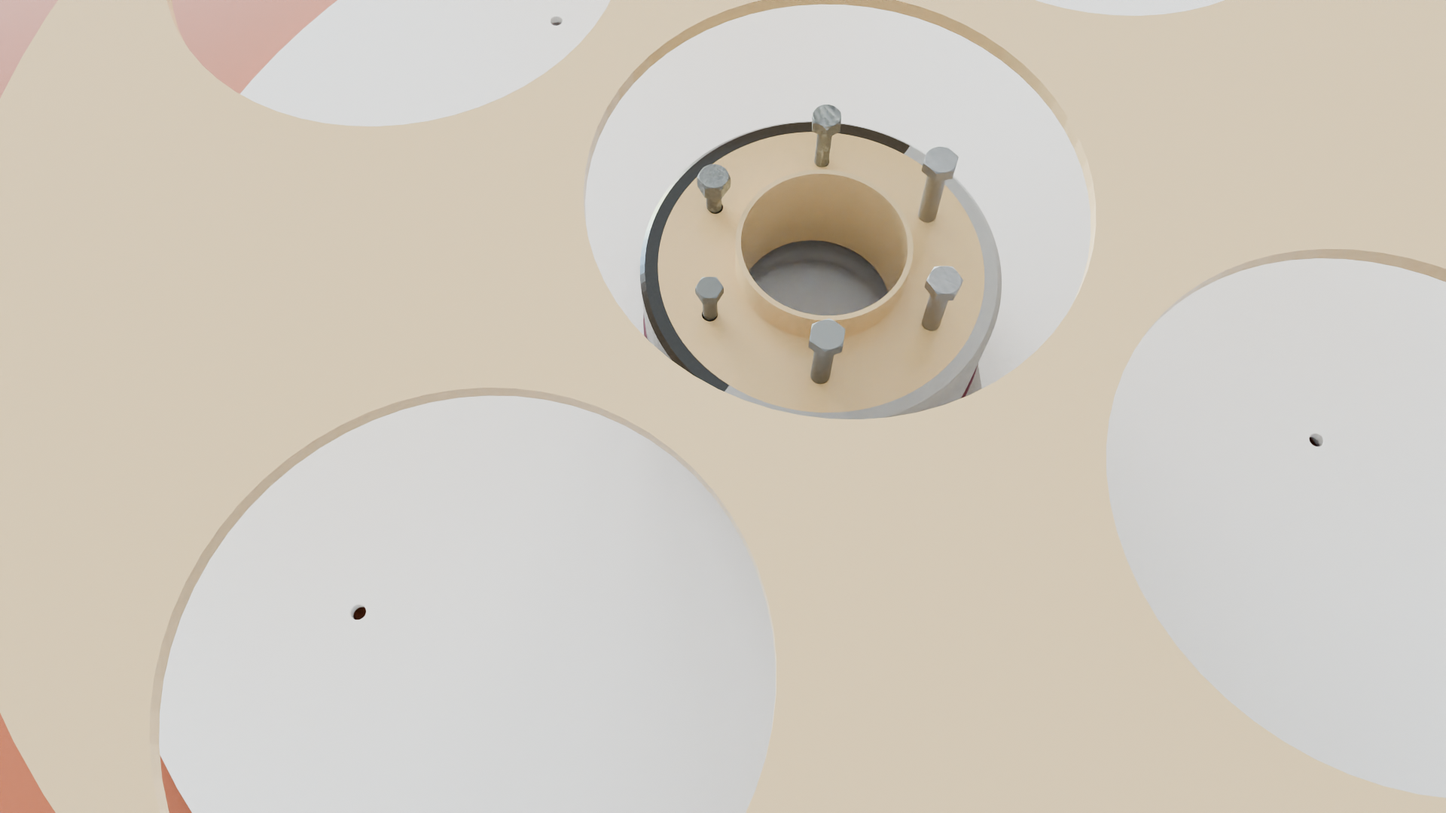bolt: (810, 318, 846, 352), (926, 266, 963, 294), (923, 146, 959, 174), (697, 164, 731, 190), (813, 105, 841, 130), (695, 276, 724, 299)
